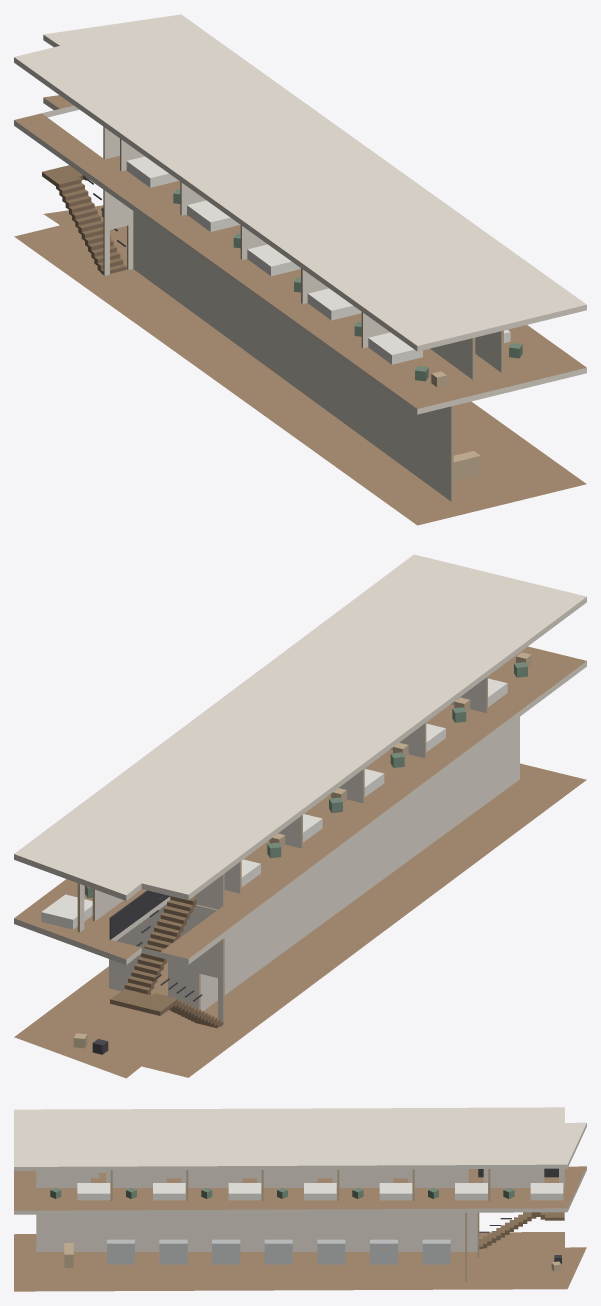
File: interior.glb
The picture shows the model from 3 angles, top to bottom: view 1: azimuth 30°, elevation 25°; view 2: azimuth 150°, elevation 25°; view 3: azimuth 270°, elevation 25°; orthographic projection. The views are drawn at different scales.
Parts seen in each view (by area): view 1: slabs, partitions, coarse-s1, stair, coarse-s0; view 2: slabs, partitions, stair, coarse-s1; view 3: slabs, partitions, coarse-s0, coarse-s1, stair.
Boxes of the visible parts, bbox=[...] form: slabs: bbox=[14, 14, 586, 525]; partitions: bbox=[103, 127, 503, 501]; coarse-s1: bbox=[126, 156, 522, 387]; stair: bbox=[42, 165, 126, 274]; coarse-s0: bbox=[102, 207, 480, 480]; slabs: bbox=[14, 554, 586, 1078]; partitions: bbox=[77, 676, 519, 1024]; stair: bbox=[109, 890, 223, 1028]; coarse-s1: bbox=[41, 652, 531, 929]; slabs: bbox=[14, 1107, 586, 1291]; partitions: bbox=[36, 1168, 564, 1282]; coarse-s0: bbox=[64, 1239, 561, 1271]; coarse-s1: bbox=[50, 1170, 563, 1200]; stair: bbox=[478, 1168, 564, 1248].
Bounding box in the file's own units: 8.58 × 8.38 × 34.85.
